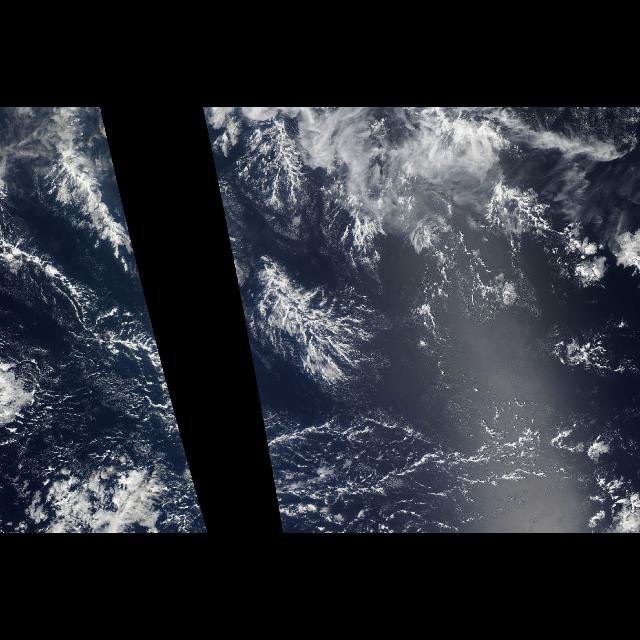Fish: (254, 257, 372, 388)
